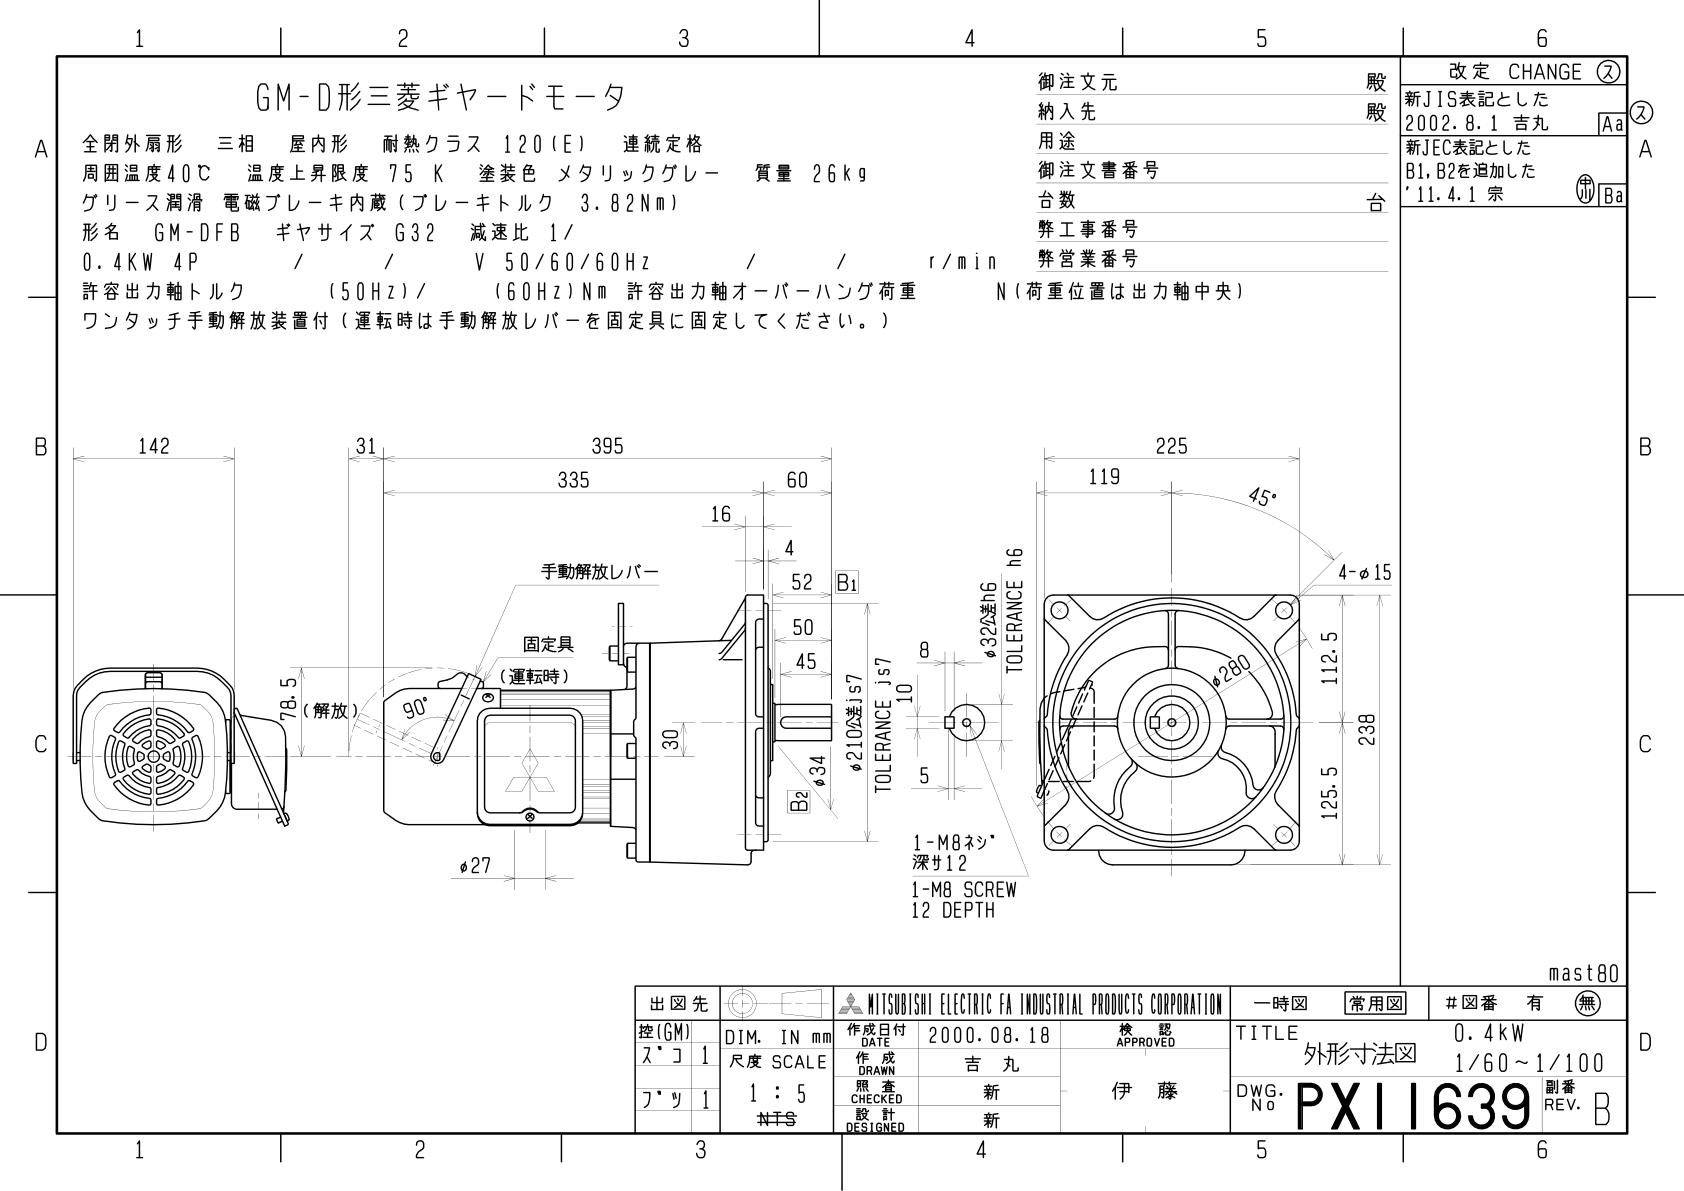GM_D_手動解放ブレーキ＿三相_フランジ: (61, 353, 1393, 945)
